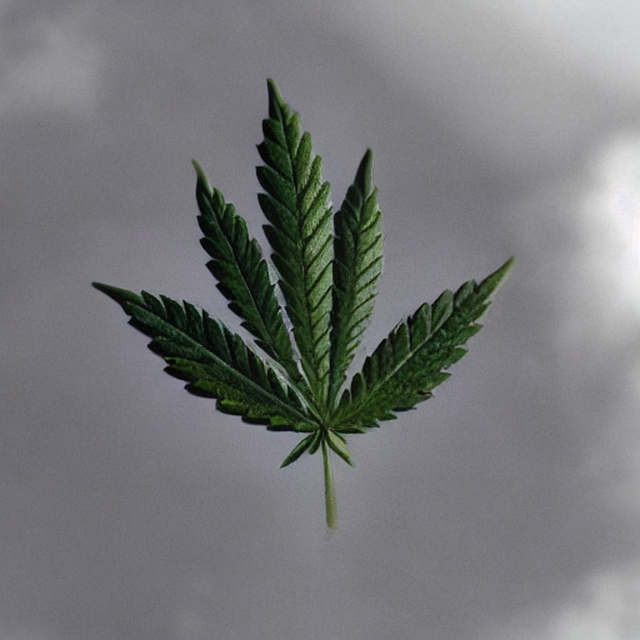Marijuana Leaf: (90, 74, 517, 528)
